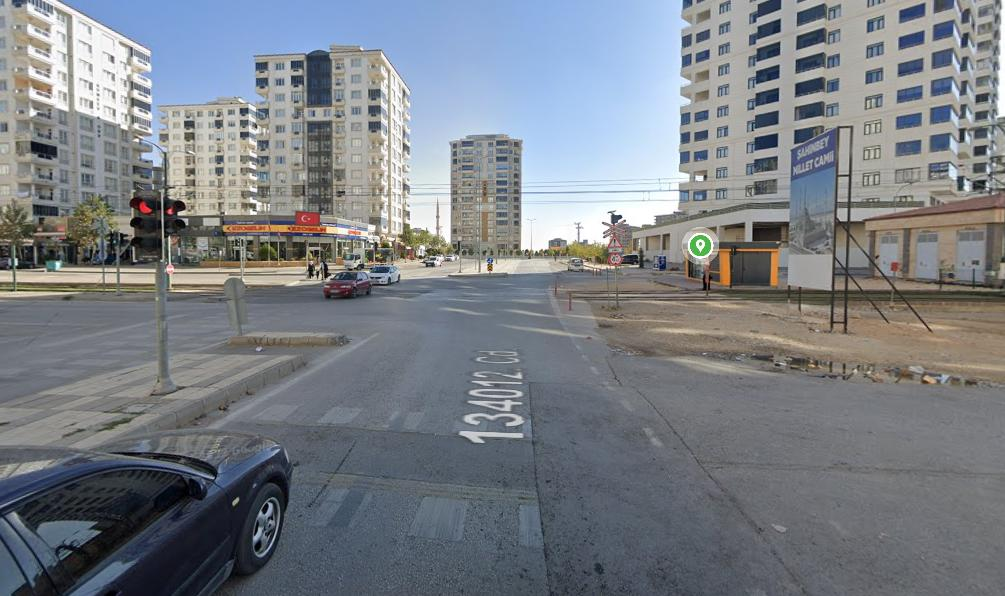redlight: (129, 196, 160, 257)
